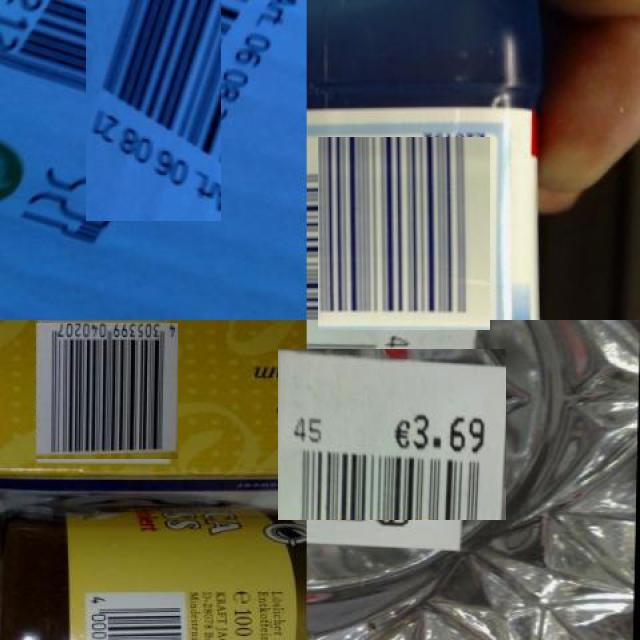Barcode: (292, 334, 492, 534), (42, 0, 264, 178), (312, 142, 495, 325), (37, 322, 176, 461), (85, 592, 188, 640)
